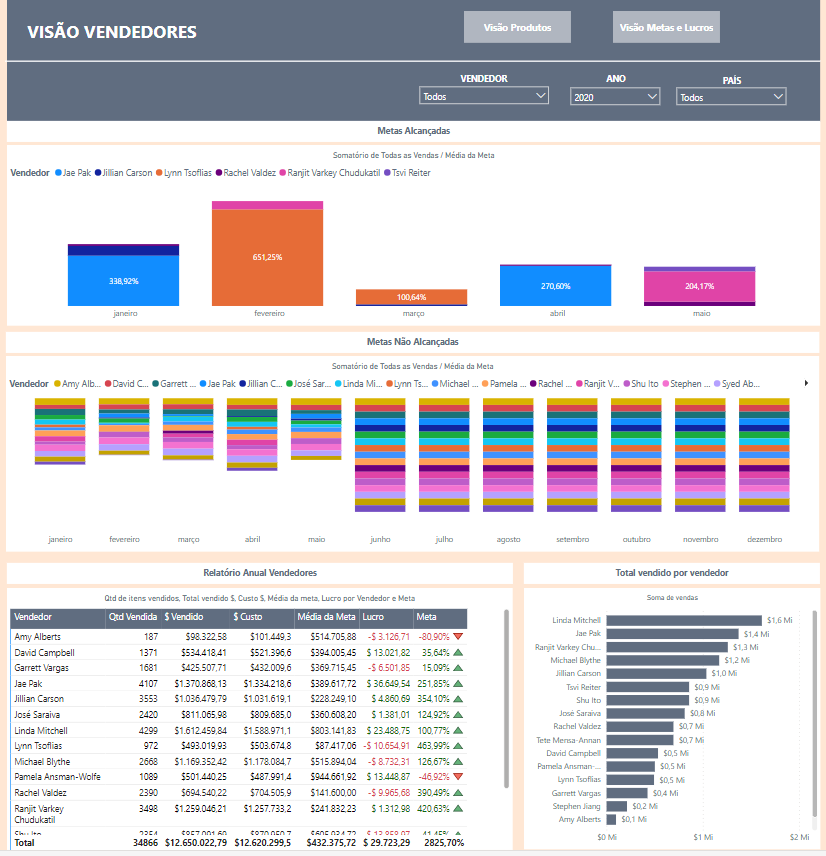

What the dashboard file says about the page in this screenshot:
{"tool":"powerbi","page":{"name":"Visão vendedores","canvas":[1280,1320],"ordinal":2},"visuals":[{"type":"columnChart","title":"Somatório de Todas as Vendas / Média da Meta","fields":{"Category":["tabela_final.OrderDate.Variation.Hierarquia de datas.Mês"],"Y":["tabela_final.Delta_venda"],"Series":["tabela_final.Salesperson"]},"box":[15.6,223.2,1251,278],"z":0},{"type":"columnChart","title":"Somatório de Todas as Vendas / Média da Meta","fields":{"Category":["tabela_final.OrderDate.Variation.Hierarquia de datas.Mês"],"Y":["tabela_final.Delta_venda"],"Series":["tabela_final.Salesperson"]},"box":[13.6,548.2,1251,301],"z":1000},{"type":"shape","box":[16,0,1251,187],"z":2000},{"type":"textbox","box":[41,24,410,47.8],"z":3000},{"type":"slicer","title":"Ano","fields":{"Values":["tabela_final.OrderDate.Variation.Hierarquia de datas.Ano"]},"box":[872.7,125,158.2,49.1],"z":4000},{"type":"slicer","title":"País","fields":{"Values":["tabela_final.Country_Region"]},"box":[1035.5,125,189.1,49.1],"z":5000},{"type":"textbox","box":[15.4,186.3,1251,31.7],"z":6000},{"type":"slicer","title":"Vendedor","fields":{"Values":["tabela_final.Salesperson"]},"box":[640,123.6,219.1,49.1],"z":7000},{"type":"pivotTable","title":"Qtd de itens vendidos, Total vendido $, Custo $, Média da meta, Lucro por Vendedor e Meta","fields":{"Rows":["tabela_final.Salesperson"],"Values":["tabela_final.Quantity","tabela_final.Sales","tabela_final.Cost","tabela_final.Target","tabela_final.Lucro","tabela_final.Delta_venda"]},"box":[14.8,904.2,777.5,402.5],"z":8000},{"type":"textbox","box":[14.6,510.2,1251,32],"z":9000},{"type":"textbox","box":[15.5,865.5,778.2,31.8],"z":10000},{"type":"barChart","title":"Soma de vendas","fields":{"Category":["tabela_final.Salesperson"],"Y":["tabela_final.Sales"]},"box":[810,904.5,456.4,401.8],"z":11000},{"type":"textbox","box":[810.9,865.5,455.5,31.8],"z":12000},{"type":"textbox","box":[882.7,108.2,138.2,30],"z":12001},{"type":"textbox","box":[1045.5,110,169.1,30],"z":12002},{"type":"textbox","box":[650,108.2,196.4,30],"z":12003},{"type":"actionButton","box":[718.2,16.4,164.5,49.1],"z":12004},{"type":"actionButton","box":[948.2,16.4,164.5,49.1],"z":12005},{"type":"shape","box":[11.8,51.8,1254.5,83.6],"z":12006}]}

Visuals, with their boxes in screenshot pixels (x1, y1, x2, y2), scaled from the page's 1280x1320 canvas onto the 826x856 screenshot:
"Somatório de Todas as Vendas / Média da Meta" columnChart: pyautogui.locateOnScreen(10, 145, 817, 325)
"Somatório de Todas as Vendas / Média da Meta" columnChart: pyautogui.locateOnScreen(9, 355, 816, 551)
shape: pyautogui.locateOnScreen(10, 0, 818, 121)
textbox: pyautogui.locateOnScreen(26, 16, 291, 47)
"Ano" slicer: pyautogui.locateOnScreen(563, 81, 665, 113)
"País" slicer: pyautogui.locateOnScreen(668, 81, 790, 113)
textbox: pyautogui.locateOnScreen(10, 121, 817, 141)
"Vendedor" slicer: pyautogui.locateOnScreen(413, 80, 554, 112)
"Qtd de itens vendidos, Total vendido $, Custo $, Média da meta, Lucro por Vendedor e Meta" pivotTable: pyautogui.locateOnScreen(10, 586, 511, 847)
textbox: pyautogui.locateOnScreen(9, 331, 817, 352)
textbox: pyautogui.locateOnScreen(10, 561, 512, 582)
"Soma de vendas" barChart: pyautogui.locateOnScreen(523, 587, 817, 847)
textbox: pyautogui.locateOnScreen(523, 561, 817, 582)
textbox: pyautogui.locateOnScreen(570, 70, 659, 90)
textbox: pyautogui.locateOnScreen(675, 71, 784, 91)
textbox: pyautogui.locateOnScreen(419, 70, 546, 90)
actionButton: pyautogui.locateOnScreen(463, 11, 570, 42)
actionButton: pyautogui.locateOnScreen(612, 11, 718, 42)
shape: pyautogui.locateOnScreen(8, 34, 817, 88)
